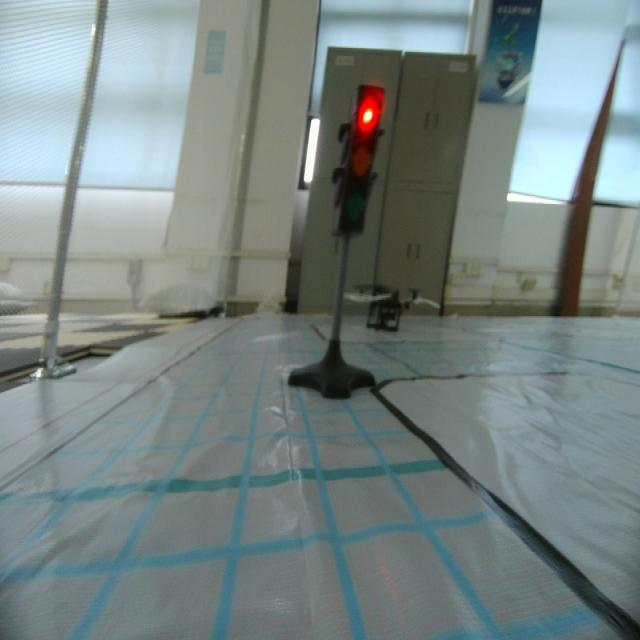red: (334, 81, 392, 229)
